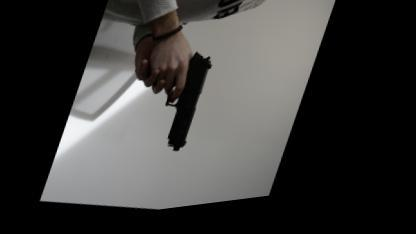pistol: (152, 50, 221, 160)
